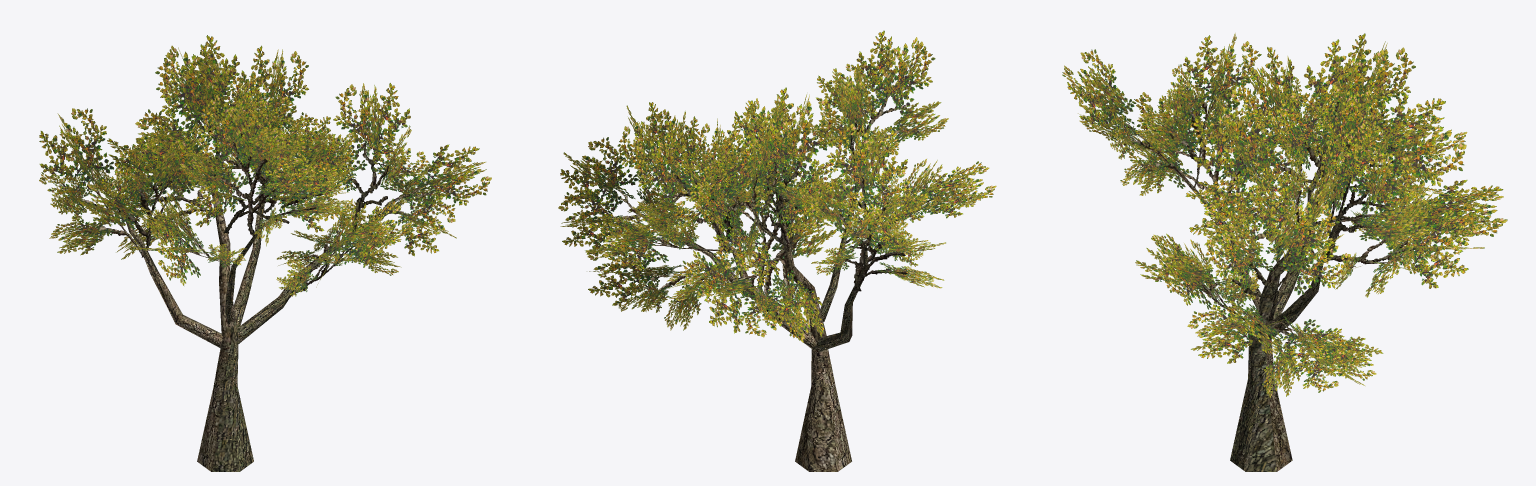
Rendered from flora_tree_oak_aut_new_v3.glb.
3 views of the same model, side by side, from view 1: azimuth 30°, elevation 25°; view 2: azimuth 150°, elevation 25°; view 3: azimuth 270°, elevation 25° (orthographic). The views are drawn at different scales.
Parts seen in each view (by area): view 1: flora_tree_oak_aut_new_v3_part1, flora_tree_oak_aut_new_v3_part0; view 2: flora_tree_oak_aut_new_v3_part1, flora_tree_oak_aut_new_v3_part0; view 3: flora_tree_oak_aut_new_v3_part1, flora_tree_oak_aut_new_v3_part0.
Part boxes in pixels (x1,y1,x2,y2): flora_tree_oak_aut_new_v3_part1: (39, 35, 491, 296); flora_tree_oak_aut_new_v3_part0: (76, 91, 437, 471); flora_tree_oak_aut_new_v3_part1: (558, 30, 996, 342); flora_tree_oak_aut_new_v3_part0: (599, 95, 939, 471); flora_tree_oak_aut_new_v3_part1: (1062, 33, 1507, 397); flora_tree_oak_aut_new_v3_part0: (1107, 91, 1435, 471).
Size of the model in its own units: 29.02 by 25.92 by 25.15.
2 materials, 2 textured.
